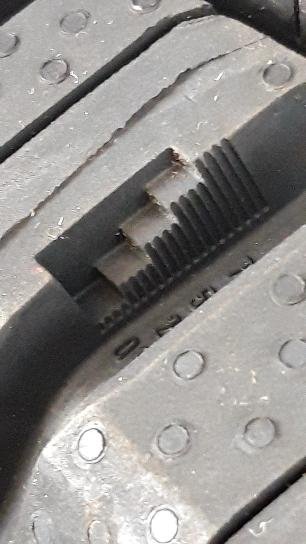temoin:100: (33, 132, 275, 342)
